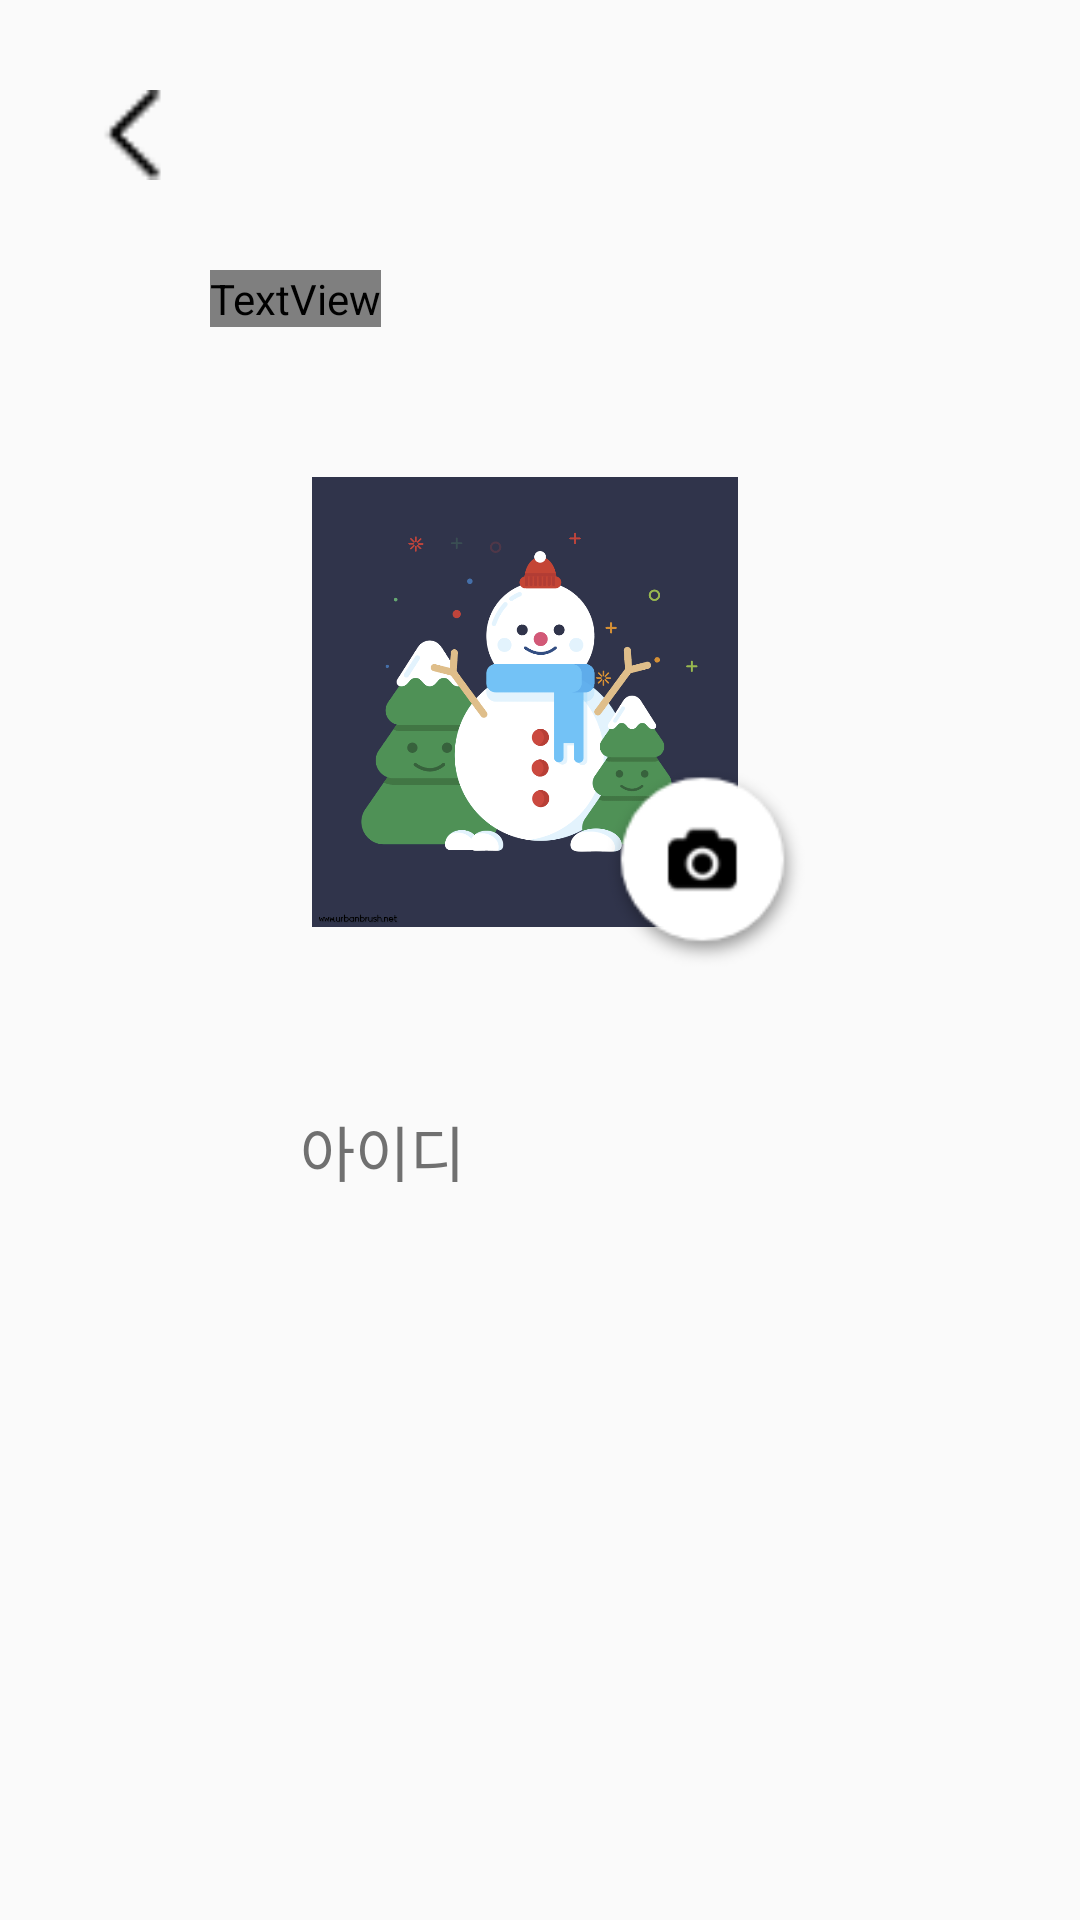

Screen size 1080px x 1920px. Icon name, then its box in pixels as {"x1": x1, "y1": y1, "x2": x2, "y2": y2}:
back: {"x1": 107, "y1": 90, "x2": 161, "y2": 180}
